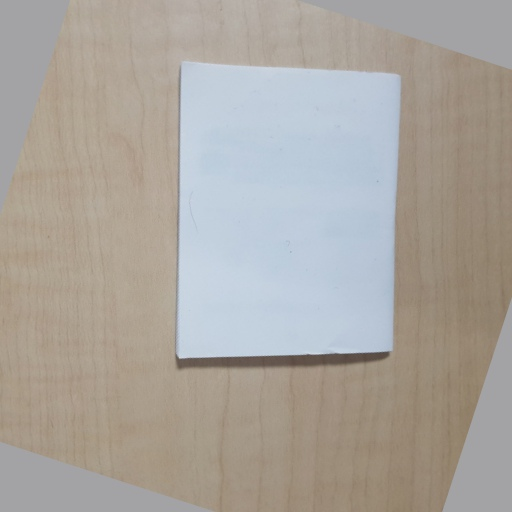Paper_0: (169, 51, 404, 368)
